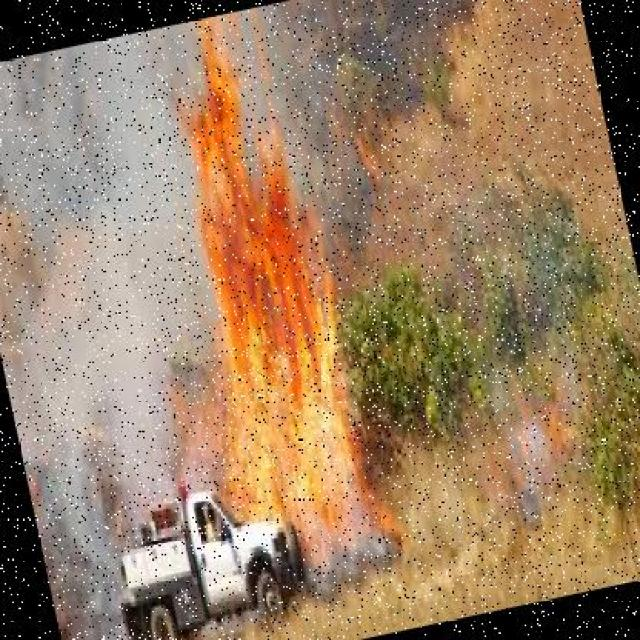fire: (121, 14, 412, 608), (465, 365, 603, 529), (332, 101, 416, 216)
